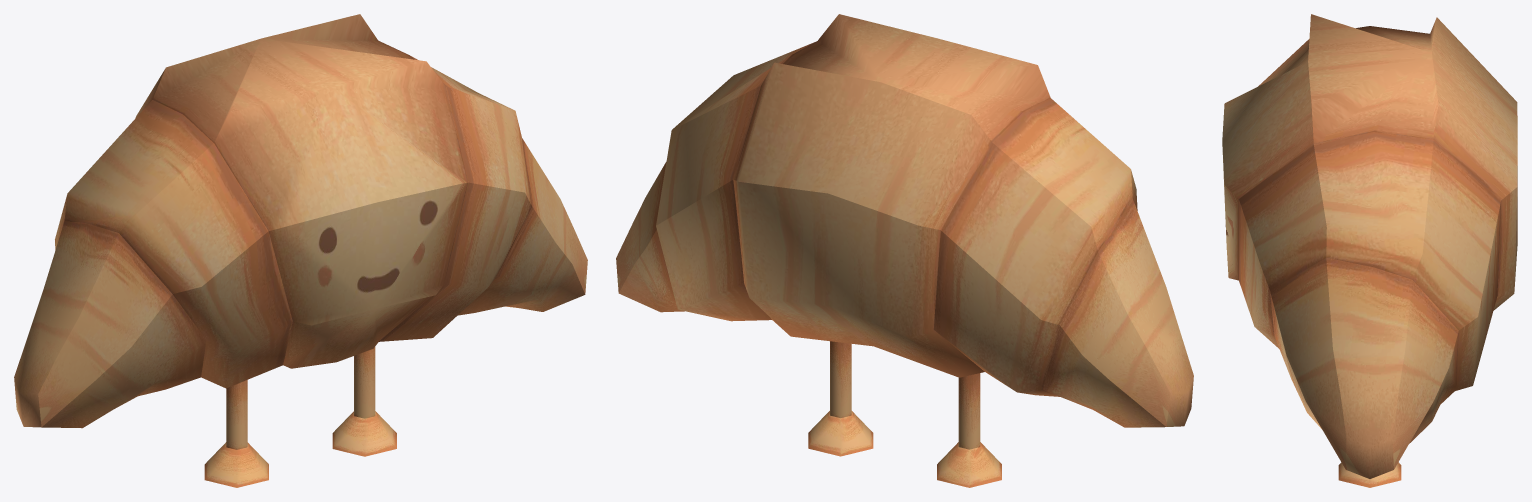
File: Bun2.gltf
The picture shows the model from 3 angles, left to right: view 1: azimuth 30°, elevation 25°; view 2: azimuth 150°, elevation 25°; view 3: azimuth 270°, elevation 25°; orthographic projection. The views are drawn at different scales.
Parts seen in each view (by area): view 1: Box011; view 2: Box011; view 3: Box011.
Boxes of the visible parts, x1,y1,x2,y2 form: Box011: [14, 14, 587, 487]; Box011: [616, 14, 1193, 487]; Box011: [1222, 14, 1517, 487].
Size of the model in its own units: 429 by 289 by 201.
Materials: 1 (1 with a texture image).
